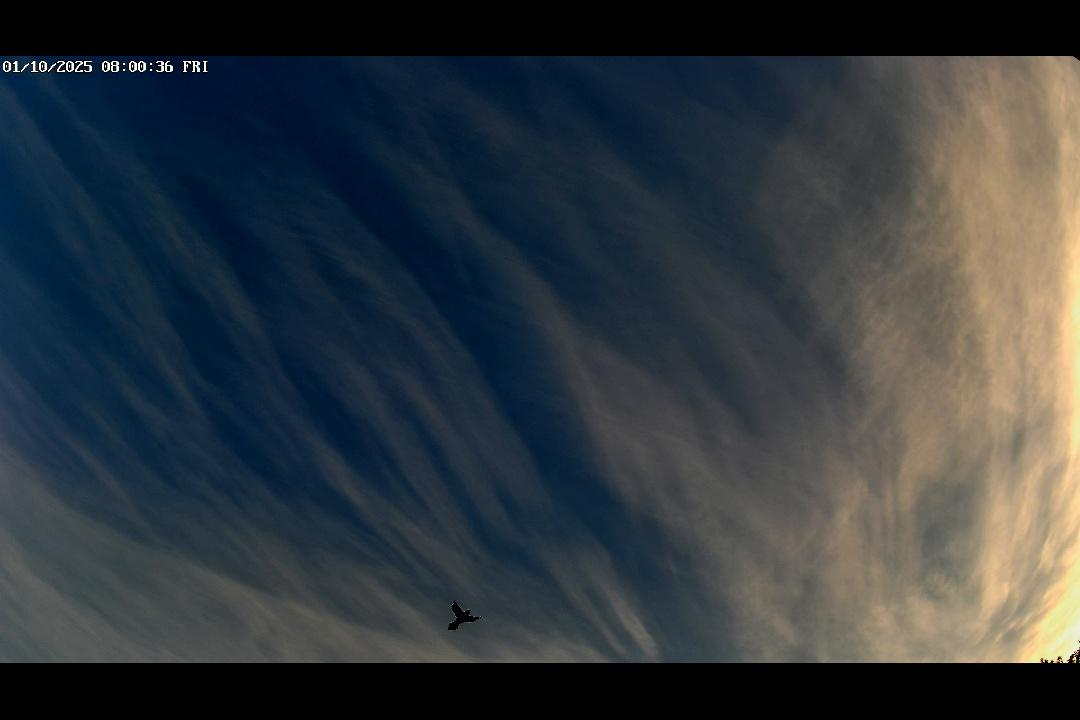WildLife: (432, 598, 492, 636)
